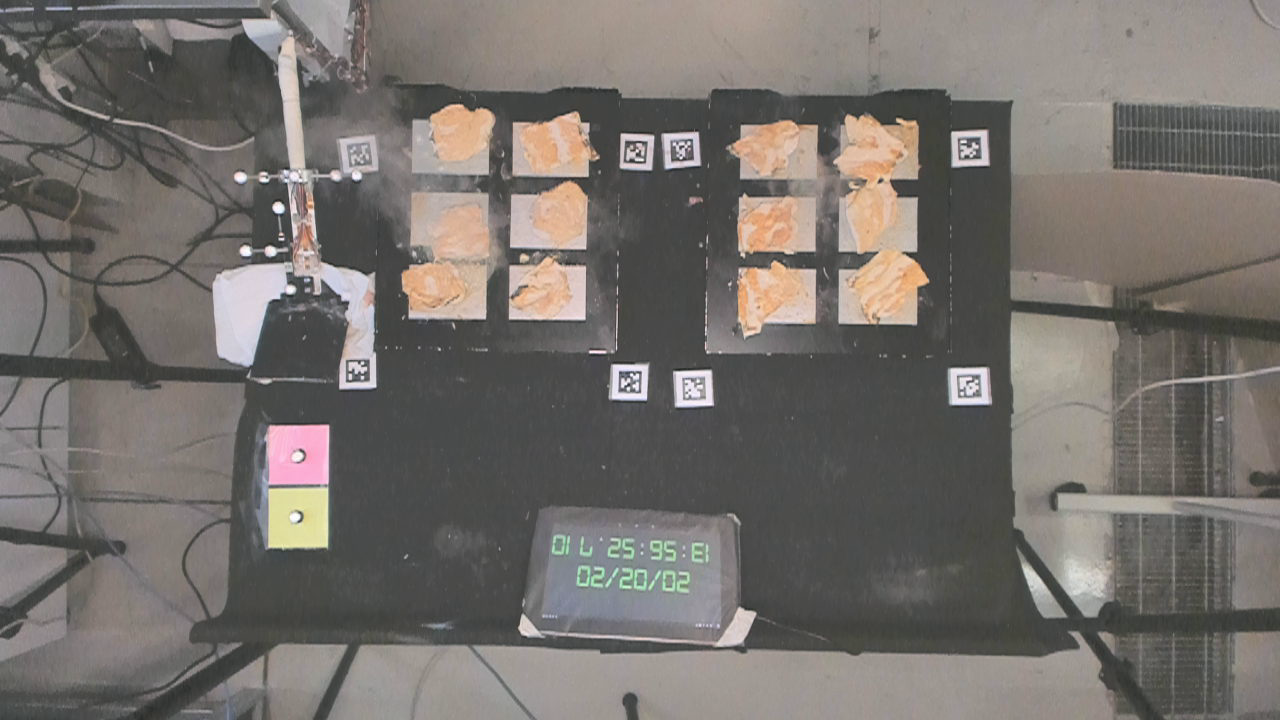chicken: (848, 250, 930, 323), (724, 118, 812, 178), (734, 261, 802, 337), (521, 112, 600, 176), (838, 110, 905, 185), (429, 102, 498, 166), (529, 180, 595, 245), (503, 258, 572, 316), (395, 258, 471, 309), (844, 187, 903, 248), (740, 195, 802, 251), (427, 206, 492, 256)
marker: (268, 424, 329, 485)
